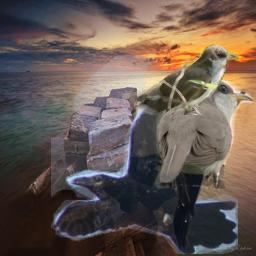Crow: (51, 55, 238, 254)
Cuckoo: (152, 79, 253, 190), (122, 44, 239, 115)
Woodpecker: (144, 118, 234, 252)
